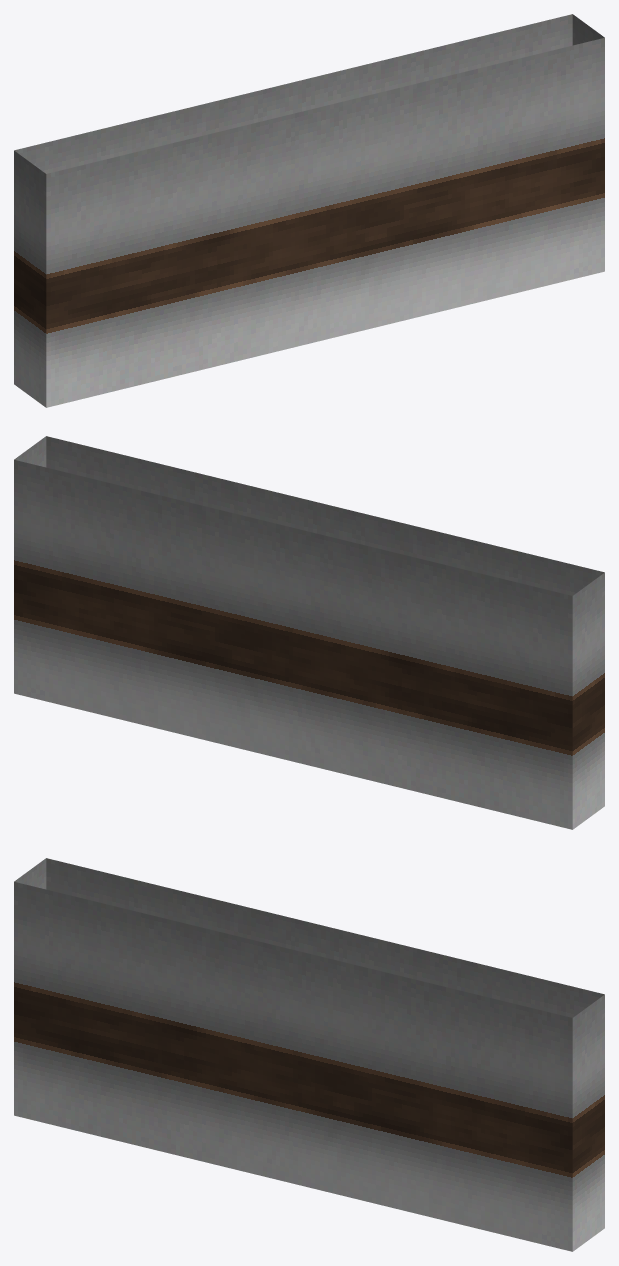
Rendered from house_passage_head_2.glb.
3 views of the same model, one above another, from view 1: azimuth 30°, elevation 25°; view 2: azimuth 150°, elevation 25°; view 3: azimuth 330°, elevation 25° (orthographic).
Visible parts, largest first — view 1: house_passage_head_2; view 2: house_passage_head_2; view 3: house_passage_head_2.
Part boxes in pixels (x1,y1,x2,y2): house_passage_head_2: (14,14,604,407); house_passage_head_2: (14,436,604,829); house_passage_head_2: (14,858,604,1251).
Size of the model in its own units: 2 by 0.8 by 0.2.
1 material, 1 textured.
